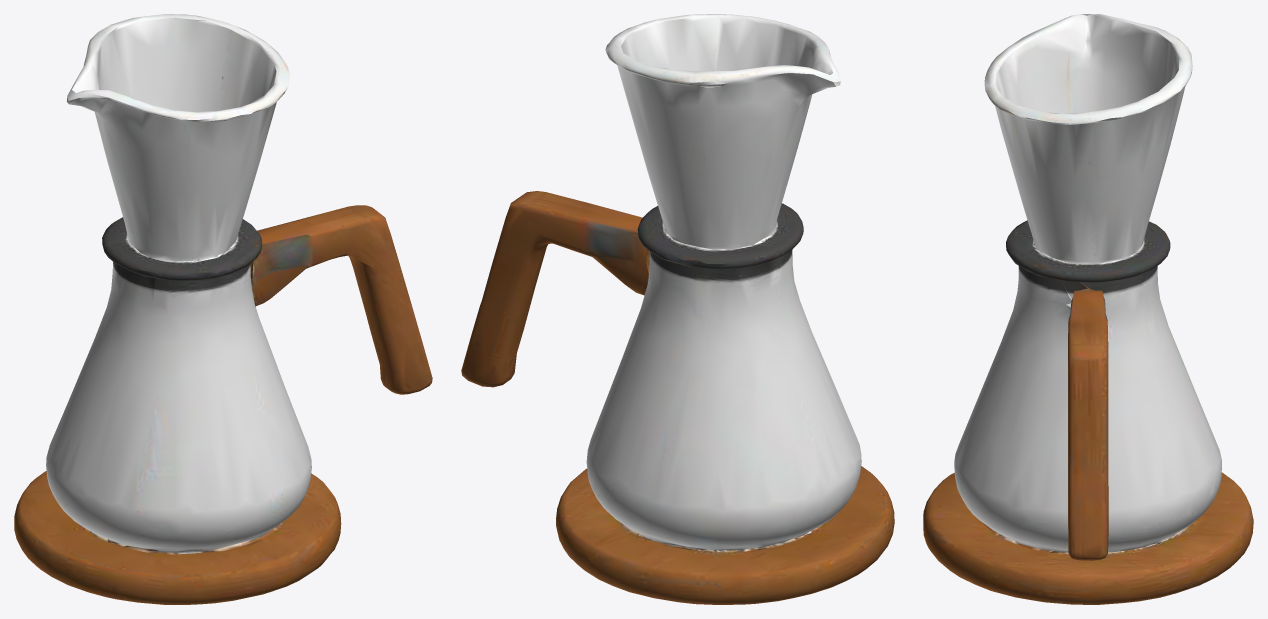
Rendered from siphon.glb.
3 views of the same model, side by side, from view 1: azimuth 30°, elevation 25°; view 2: azimuth 150°, elevation 25°; view 3: azimuth 270°, elevation 25° (orthographic). The views are drawn at different scales.
Parts seen in each view (by area): view 1: siphon; view 2: siphon; view 3: siphon.
Part boxes in pixels (x1,y1,x2,y2): siphon: (14, 14, 432, 604); siphon: (461, 14, 894, 604); siphon: (923, 14, 1253, 604).
Size of the model in its own units: 0.3342 by 0.4 by 0.2448.
Materials: 1 (1 with a texture image).
